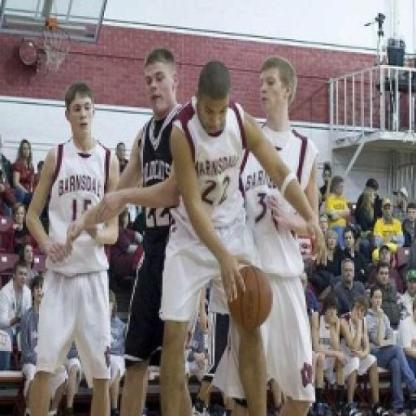basketball: (226, 257, 278, 333)
